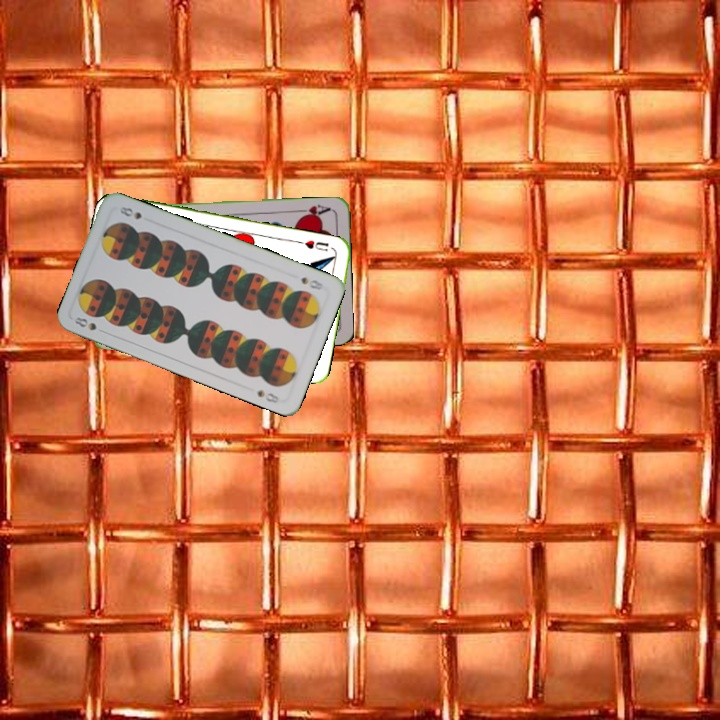HA: (293, 200, 333, 220)
HU: (301, 236, 331, 254)
S8: (70, 313, 99, 333), (297, 273, 326, 292)
